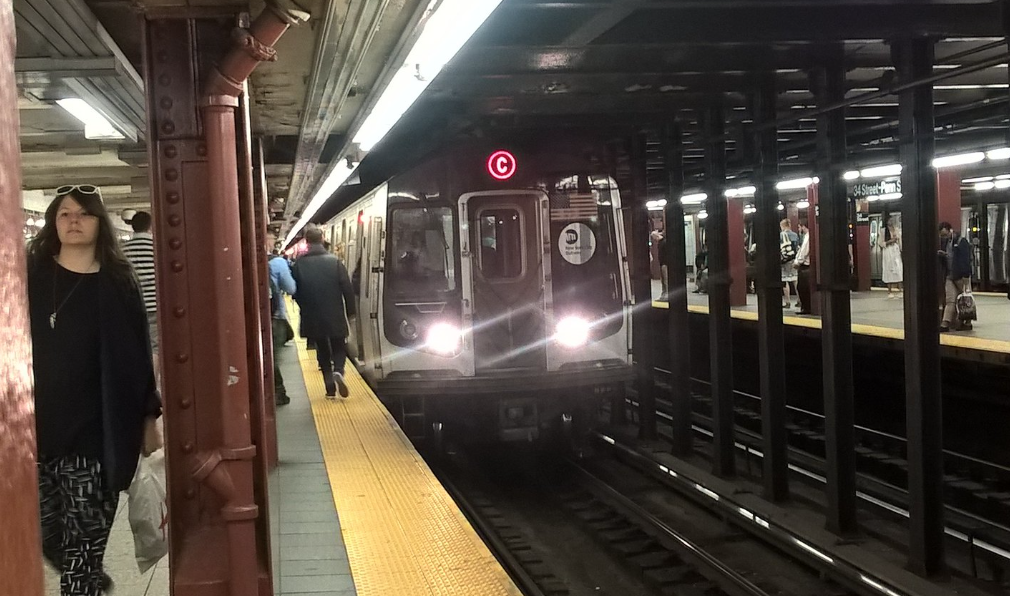train: (365, 143, 645, 405)
